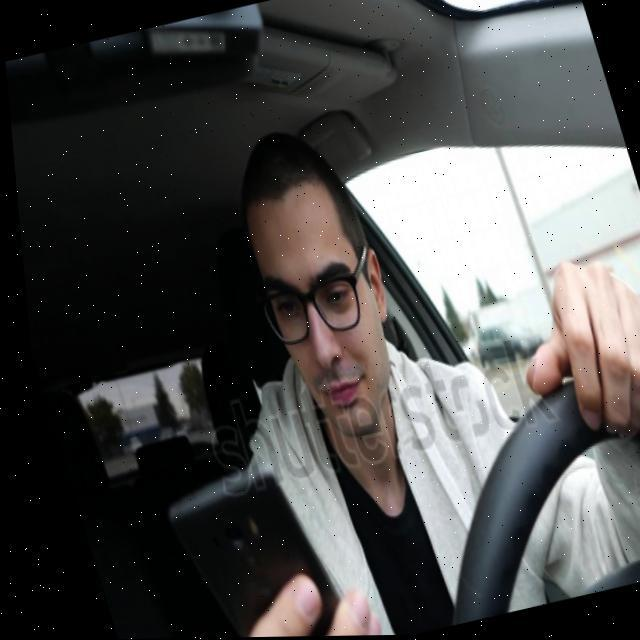PhoneCall: (144, 460, 338, 638)
